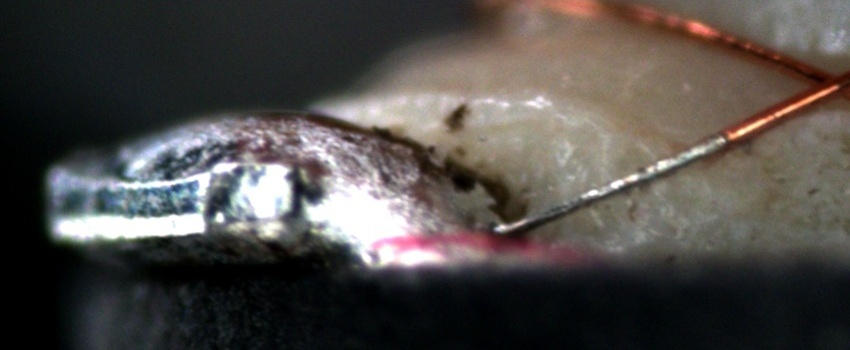CL: (782, 56, 847, 111)
TS: (495, 132, 731, 236)
